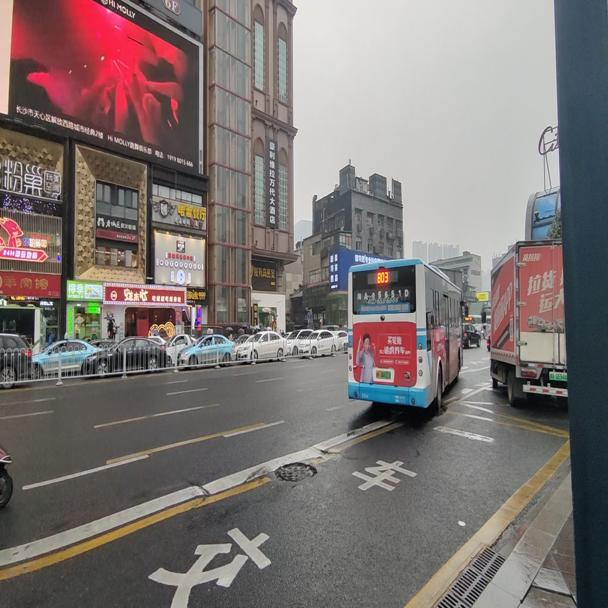bus: (346, 256, 468, 414)
screen: (376, 271, 388, 284)
